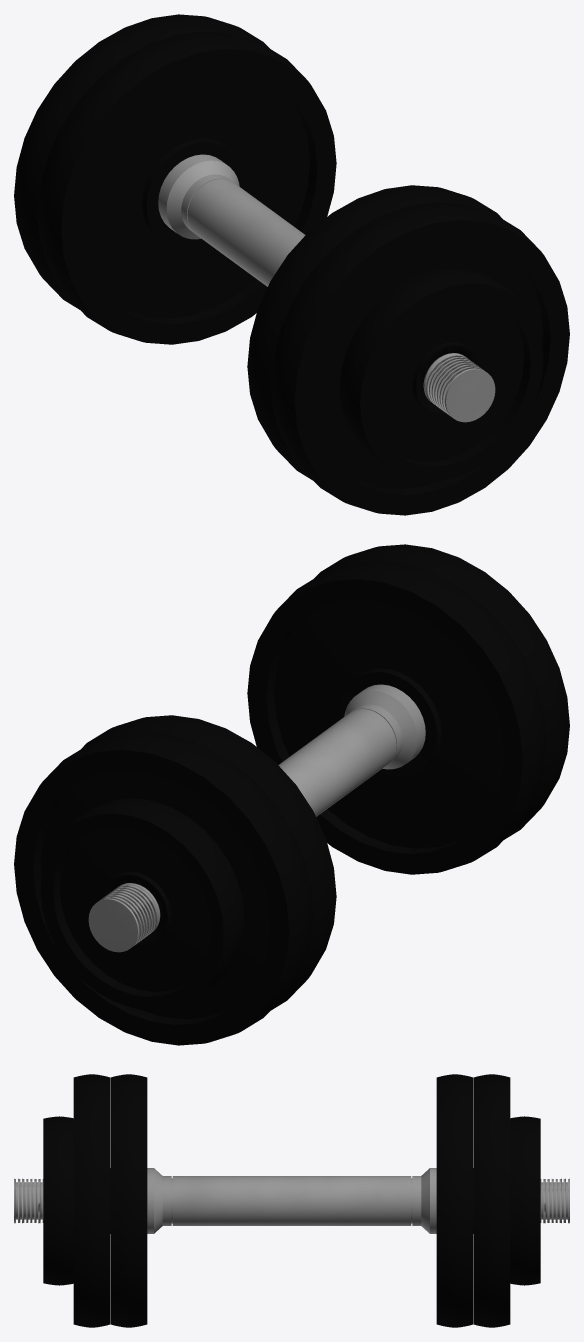
Rendered from dumbbell.glb.
3 renders of one model, top to bottom at view 1: azimuth 30°, elevation 25°; view 2: azimuth 150°, elevation 25°; view 3: azimuth 270°, elevation 25°, orthographic. The views are drawn at different scales.
Visible parts, largest first — view 1: dumbell; view 2: dumbell; view 3: dumbell.
Boxes of the visible parts, x1,y1,x2,y2 form: dumbell: [14, 14, 569, 515]; dumbell: [14, 544, 569, 1045]; dumbell: [14, 1074, 569, 1327].
Size of the model in its own units: 0.2839 by 0.2839 by 0.6218.
Materials: 1 (1 with a texture image).
